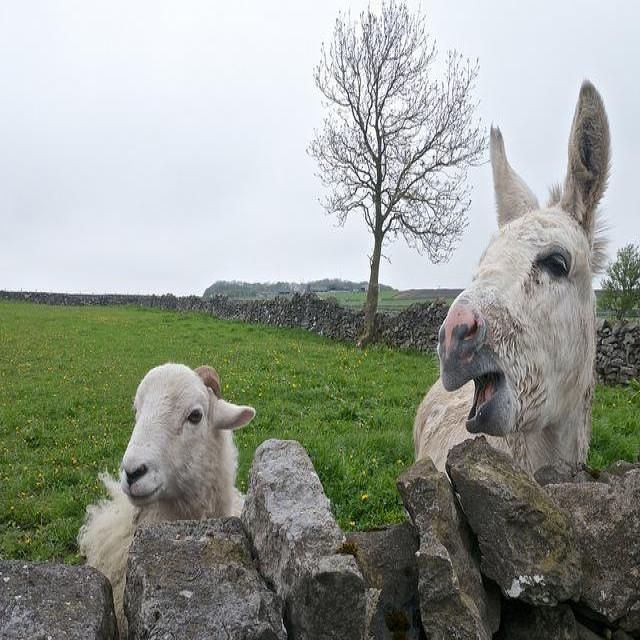Sheep: (77, 361, 258, 632)
